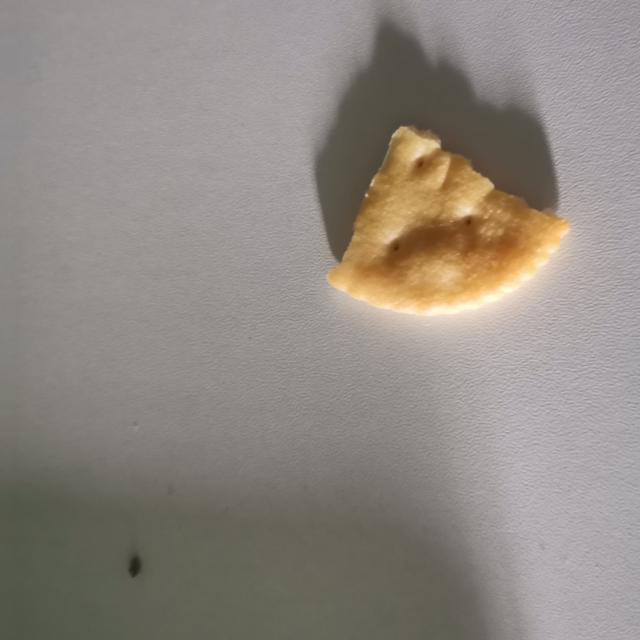Broken: (326, 123, 570, 317)
